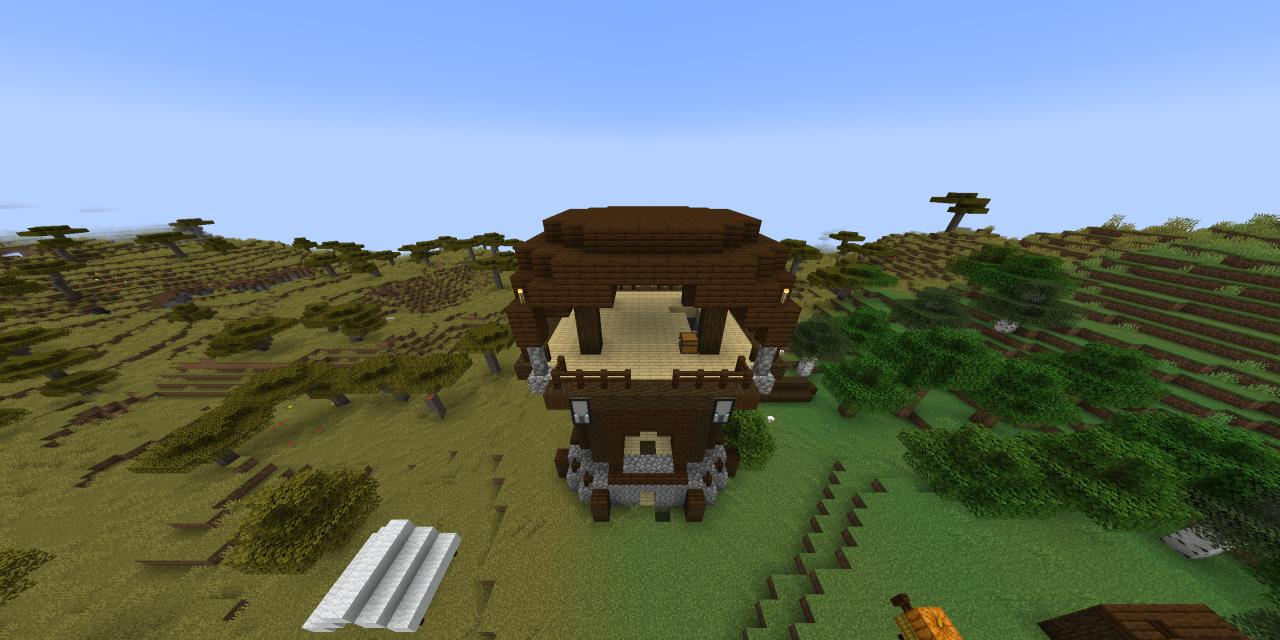pillager outpost: (493, 194, 812, 544)
